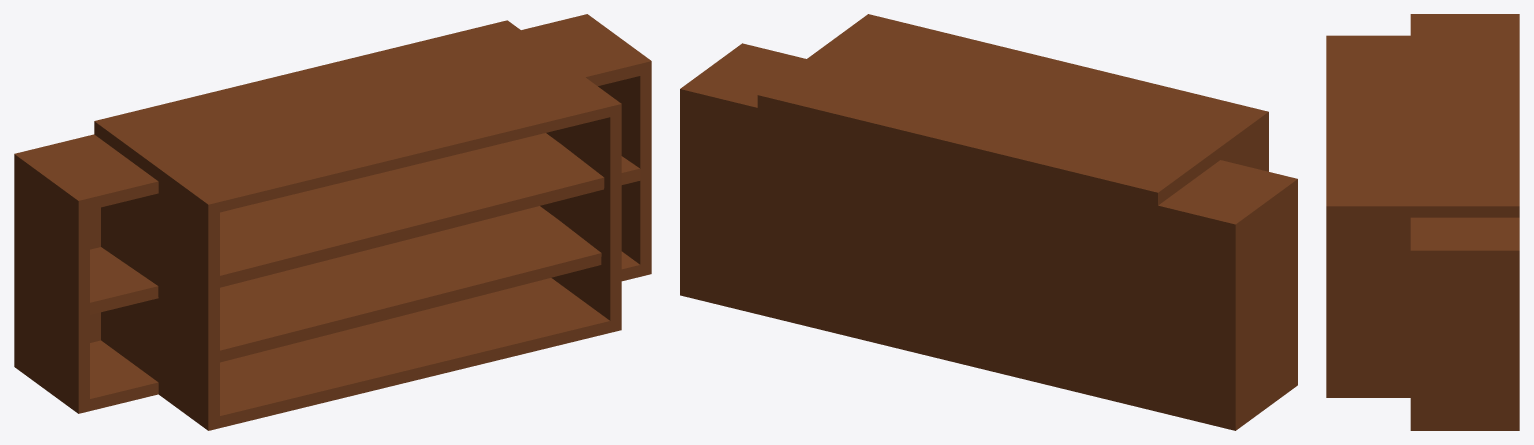
The picture shows the model from 3 angles, left to right: view 1: azimuth 30°, elevation 25°; view 2: azimuth 150°, elevation 25°; view 3: azimuth 270°, elevation 25°; orthographic projection. The views are drawn at different scales.
Visible parts, largest first — view 1: cabinet; view 2: cabinet; view 3: cabinet.
Part boxes in pixels (x1,y1,x2,y2): cabinet: (14, 14, 651, 430); cabinet: (680, 14, 1297, 430); cabinet: (1326, 14, 1519, 430).
Bounding box in the file's own units: 1.2 × 0.4525 × 0.4142.
